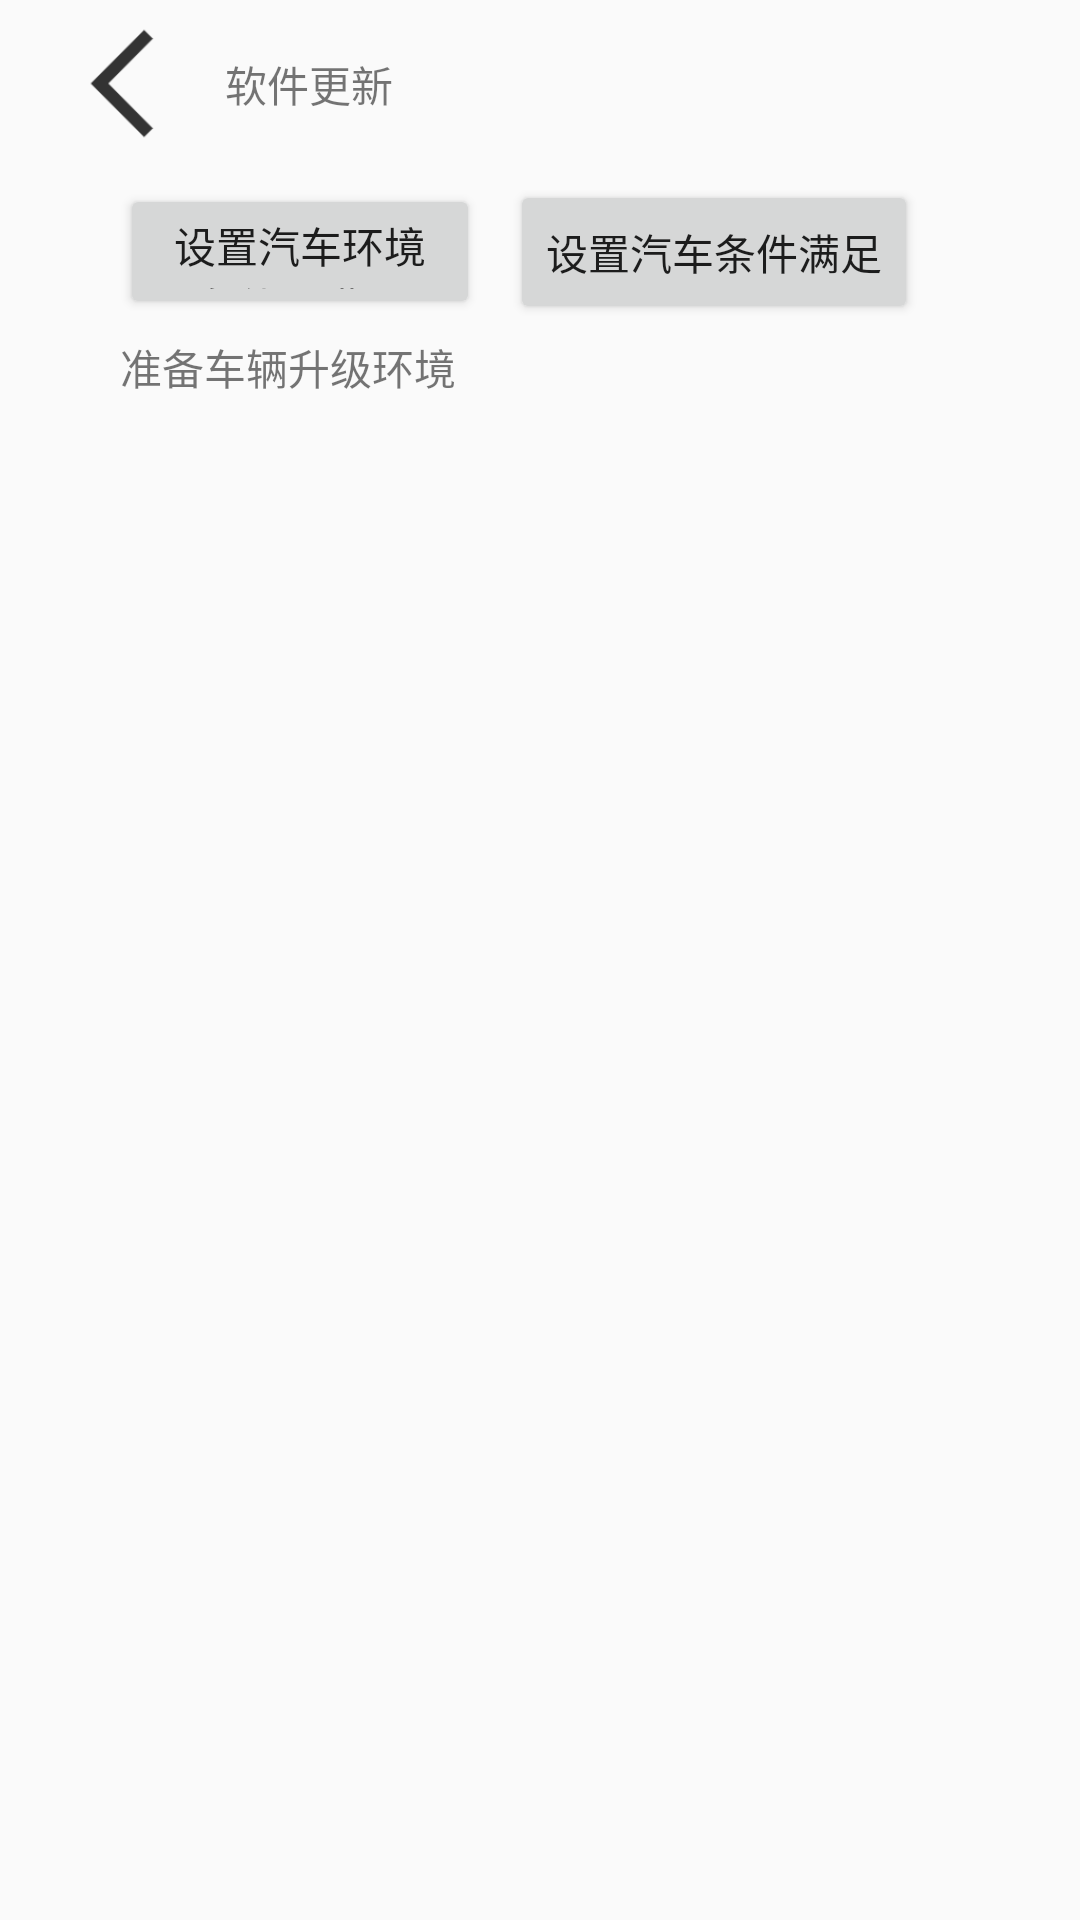

Locate icon controls on the screen. Image size 1080x1920, boxes as (x1, y1, x2, y2).
back: (90, 30, 153, 137)
